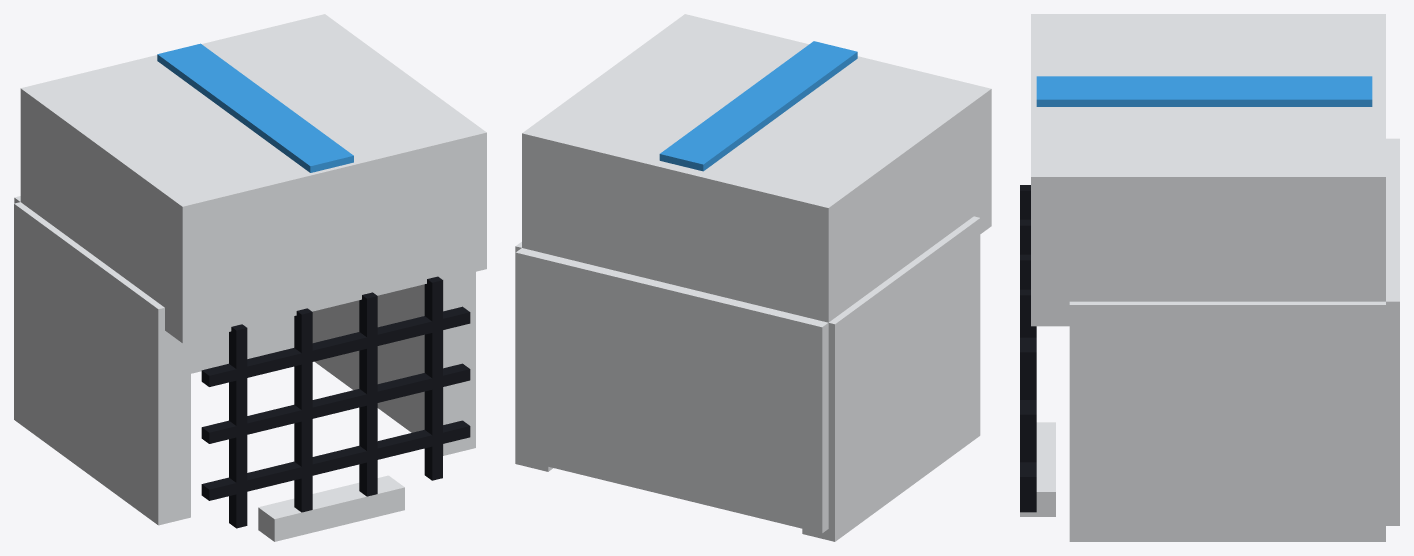
Rendered from mask.glb.
3 renders of one model, left to right at view 1: azimuth 30°, elevation 25°; view 2: azimuth 150°, elevation 25°; view 3: azimuth 270°, elevation 25°, orthographic. The views are drawn at different scales.
Visible parts, largest first — view 1: ice_mask_body; view 2: ice_mask_body; view 3: ice_mask_body.
Part boxes in pixels (box(x1,y1,x2,y2)): ice_mask_body: box(14, 14, 486, 541); ice_mask_body: box(515, 14, 991, 541); ice_mask_body: box(1020, 14, 1399, 541).
Bounding box in the file's own units: 0.5615 × 0.6077 × 0.5308.
1 material, 1 textured.
